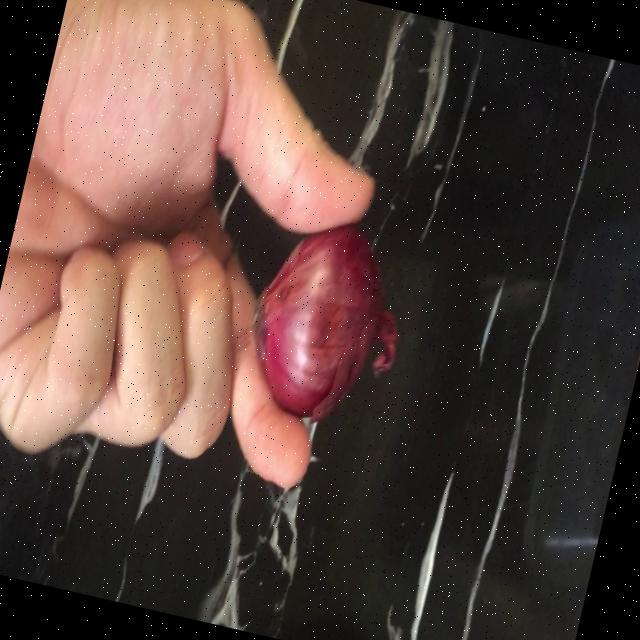Onion: (253, 224, 397, 421)
